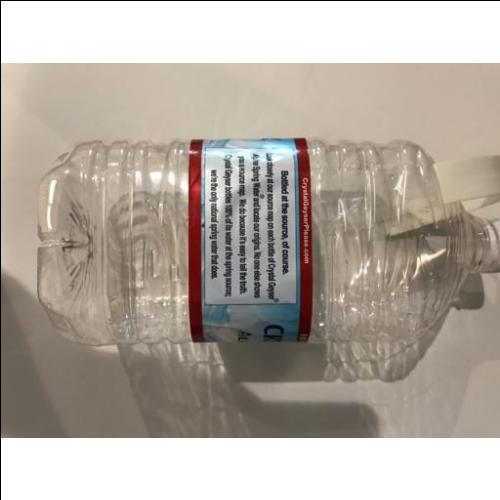plastic: (36, 138, 500, 343)
